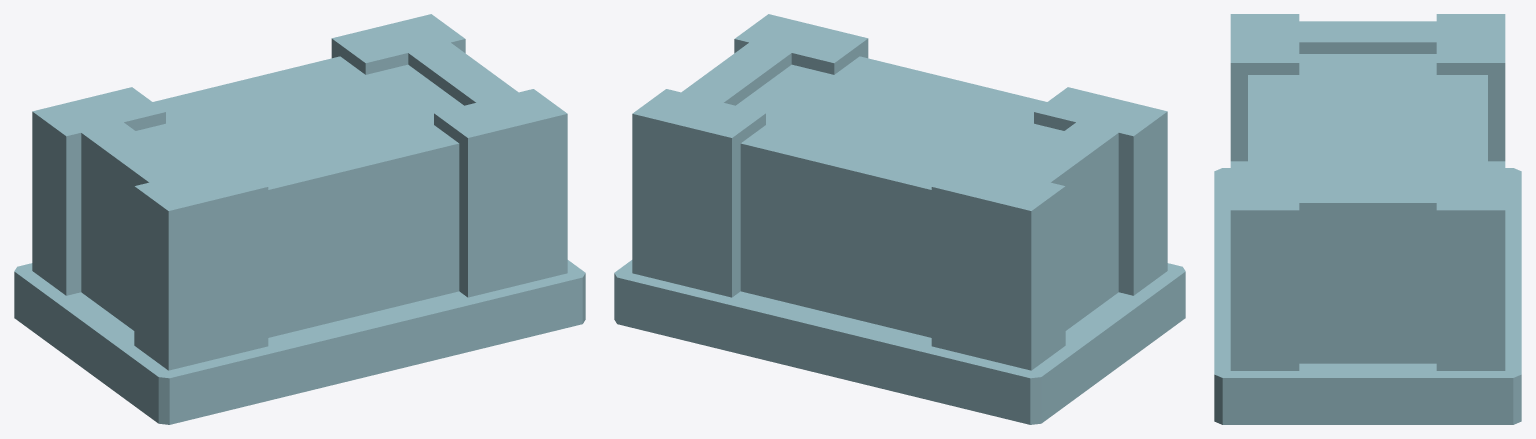
The model's file is d_kenney_autel_pierre.glb.
The picture shows the model from 3 angles, left to right: view 1: azimuth 30°, elevation 25°; view 2: azimuth 150°, elevation 25°; view 3: azimuth 270°, elevation 25°; orthographic projection.
Visible parts, largest first — view 1: d_kenney_autel_pierre; view 2: d_kenney_autel_pierre; view 3: d_kenney_autel_pierre.
Boxes of the visible parts, x1=… form: d_kenney_autel_pierre: x1=14, y1=14, x2=585, y2=424; d_kenney_autel_pierre: x1=614, y1=14, x2=1185, y2=424; d_kenney_autel_pierre: x1=1214, y1=14, x2=1521, y2=424.
Size of the model in its own units: 1.06 by 0.4876 by 0.6532.
Materials: 1 (1 with a texture image).
